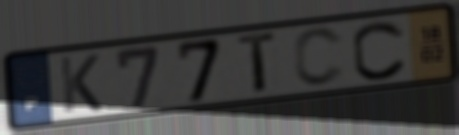7: (113, 43, 165, 111), (176, 36, 223, 105)
C: (350, 18, 410, 82), (291, 25, 348, 89)
K: (56, 52, 105, 115)
T: (235, 29, 281, 98)
